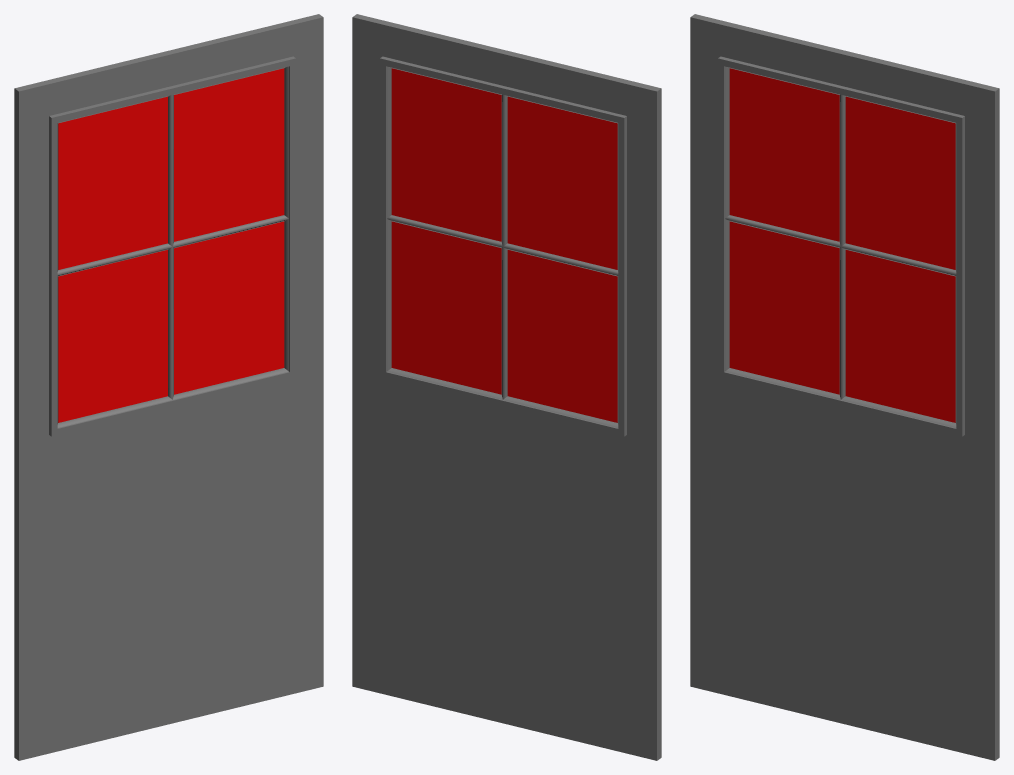
Rendered from Door02.fbx.
The picture shows the model from 3 angles, left to right: view 1: azimuth 30°, elevation 25°; view 2: azimuth 150°, elevation 25°; view 3: azimuth 330°, elevation 25°; orthographic projection.
Visible parts, largest first — view 1: Door02; view 2: Door02; view 3: Door02.
Boxes of the visible parts, <box> form: Door02: <box>14,14,323,760</box>; Door02: <box>352,14,661,760</box>; Door02: <box>690,14,999,760</box>.
Size of the model in its own units: 100 by 210 by 5.5.
